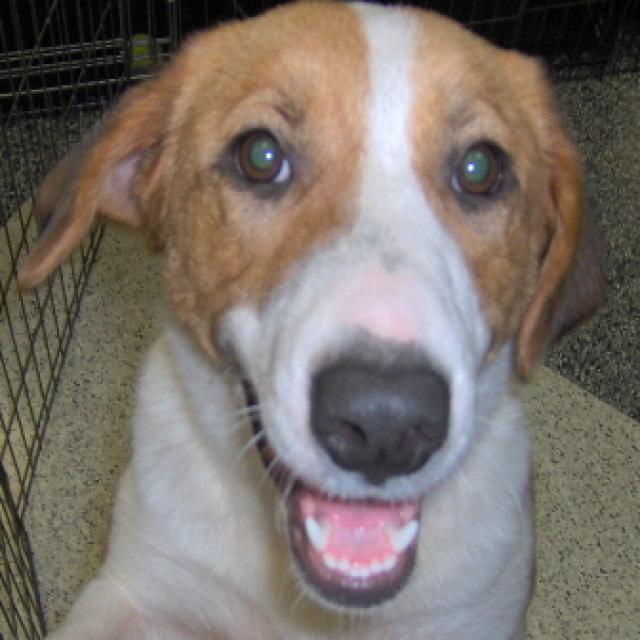Dogs: (6, 0, 610, 638)
